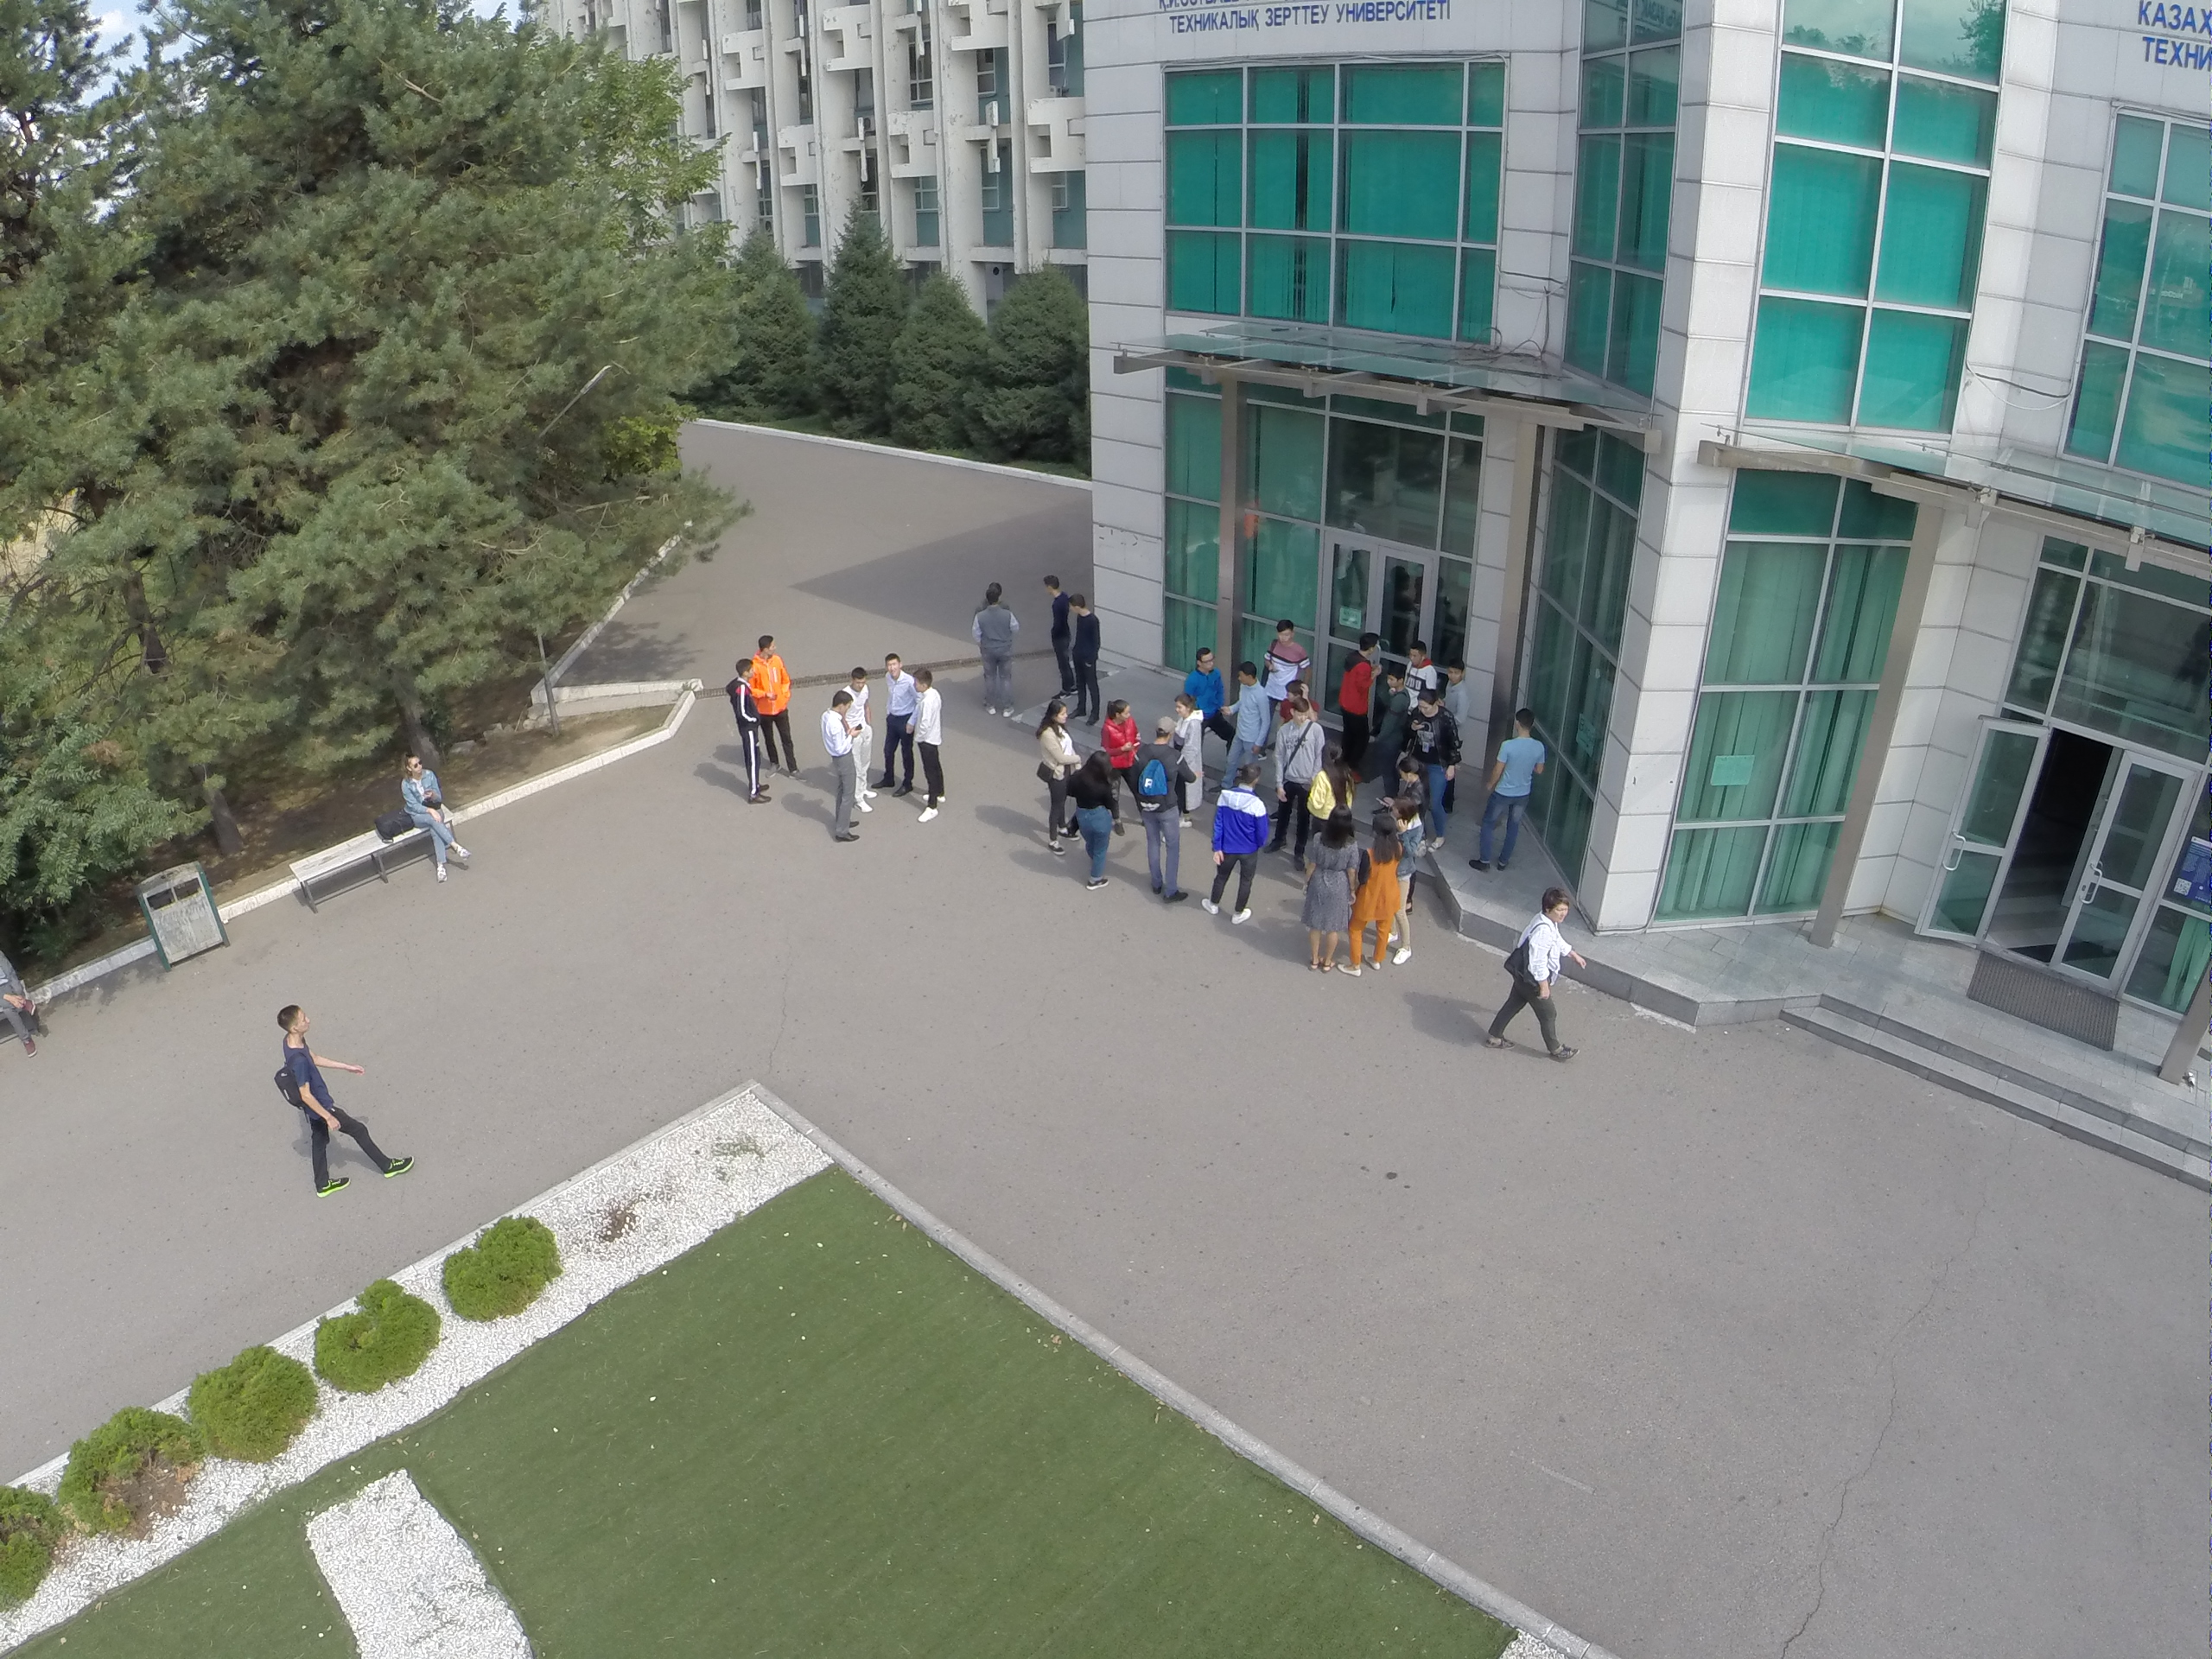person: (247, 996, 421, 1204), (1471, 880, 1586, 1065), (387, 748, 476, 894), (1202, 761, 1265, 935), (1131, 717, 1189, 898), (1025, 701, 1079, 855), (1295, 810, 1347, 978), (1071, 744, 1122, 897), (753, 632, 804, 779), (818, 688, 868, 847), (905, 663, 950, 830), (967, 582, 1019, 722), (724, 658, 772, 812), (1273, 702, 1315, 874), (1352, 810, 1394, 977), (1415, 695, 1464, 831), (875, 650, 916, 802), (1227, 658, 1272, 788), (1165, 694, 1206, 834), (1037, 570, 1078, 703), (846, 664, 880, 816), (1066, 590, 1099, 724), (1341, 630, 1382, 739), (1392, 797, 1415, 974), (1184, 638, 1224, 735), (1306, 737, 1351, 817), (1098, 696, 1140, 783), (1263, 620, 1300, 704), (1376, 660, 1411, 741), (1389, 753, 1435, 811), (1440, 660, 1472, 717), (1401, 641, 1434, 692)
